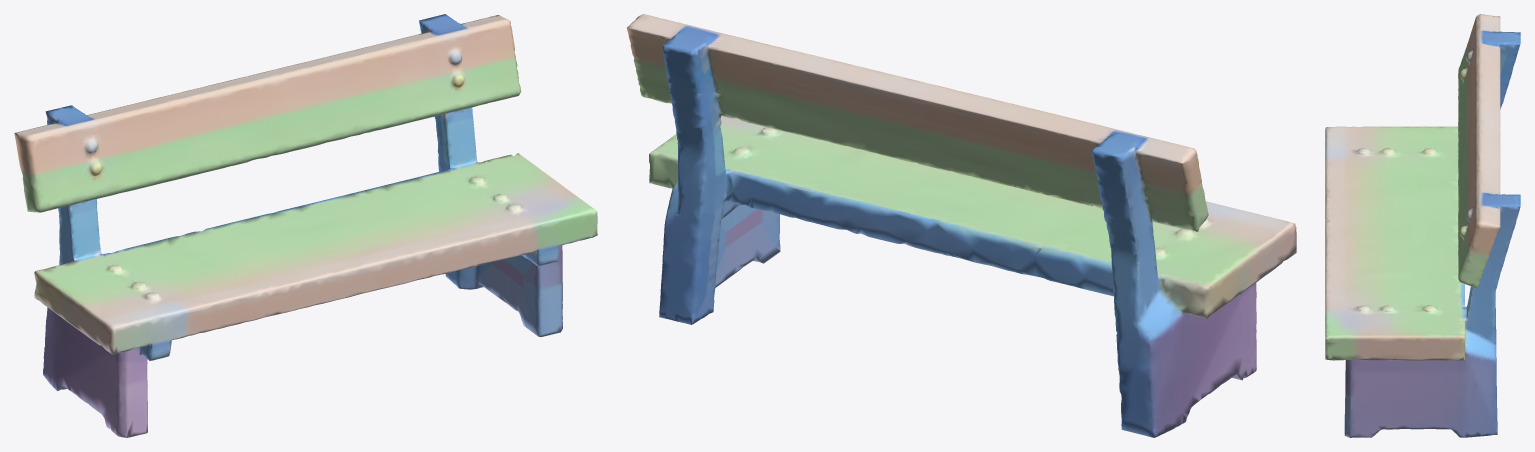
The model's file is bench.glb.
The picture shows the model from 3 angles, left to right: view 1: azimuth 30°, elevation 25°; view 2: azimuth 150°, elevation 25°; view 3: azimuth 270°, elevation 25°; orthographic projection. The views are drawn at different scales.
Parts seen in each view (by area): view 1: model; view 2: model; view 3: model.
Boxes of the visible parts, left/top/right/bottom form: model: left=14, top=14, right=597, bottom=437; model: left=627, top=14, right=1296, bottom=437; model: left=1325, top=14, right=1520, bottom=437.
Size of the model in its own units: 1.9 by 0.9428 by 0.7445.
1 material, 1 textured.
